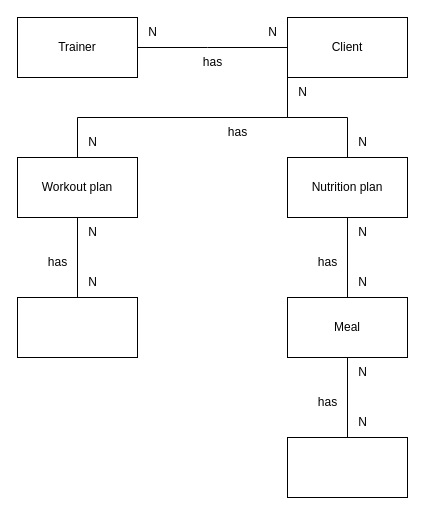
Image size: 425x515. Some labels were removed from this diagram. The shapes that lost their labels are listed below. From the top down, each one's centre as x and y in pixels, then its label:
the point at 77,327: Exercise
the point at 347,467: Ingredients
